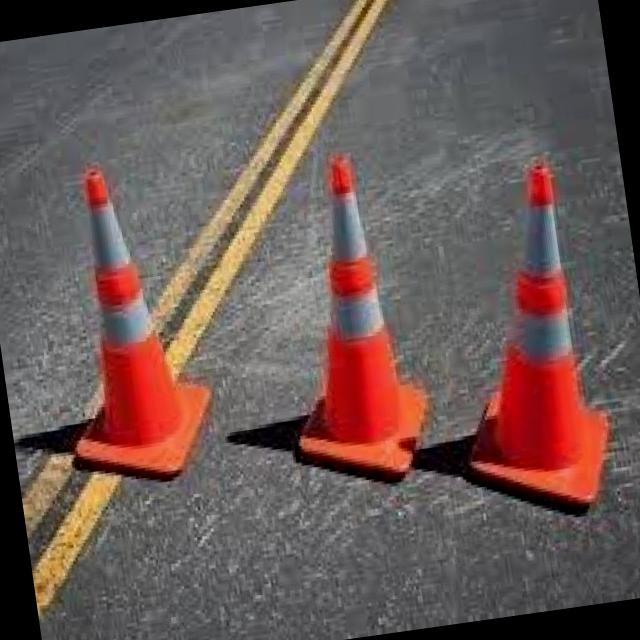Cone: (426, 161, 618, 535), (253, 140, 434, 491), (36, 157, 221, 492)
